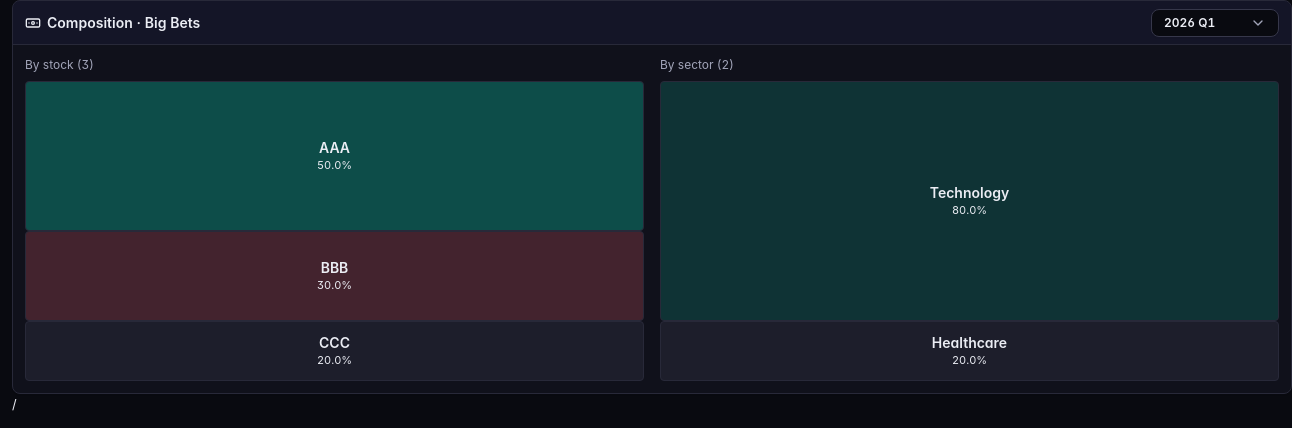
Test: CompositionPanel sector filter › clears on Escape and from the header button
Click the button "Technology 80.0%" at (970, 201), box [660,81,1279,321]
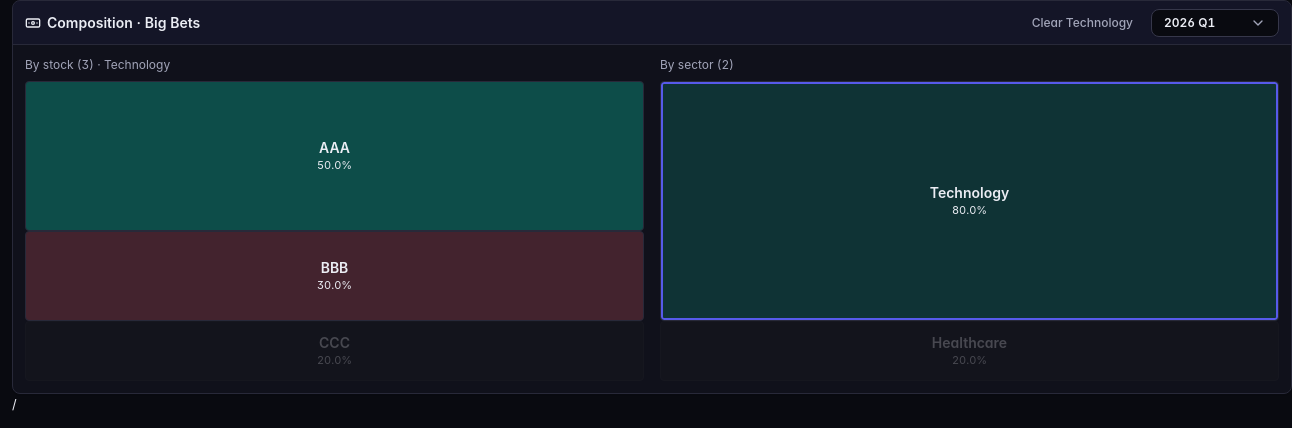
Press Escape
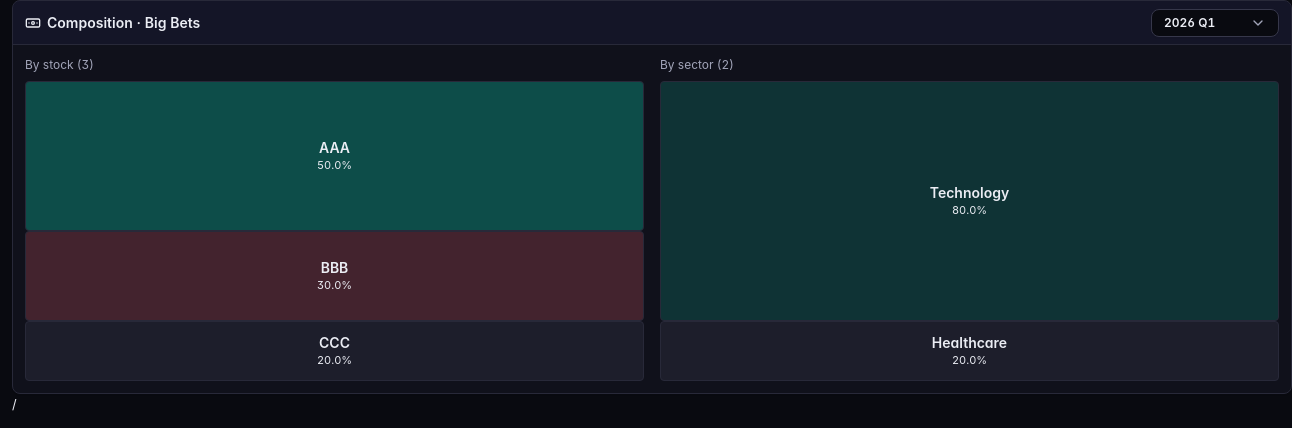
Click the button "Healthcare 20.0%" at (970, 351), box [660,321,1279,381]
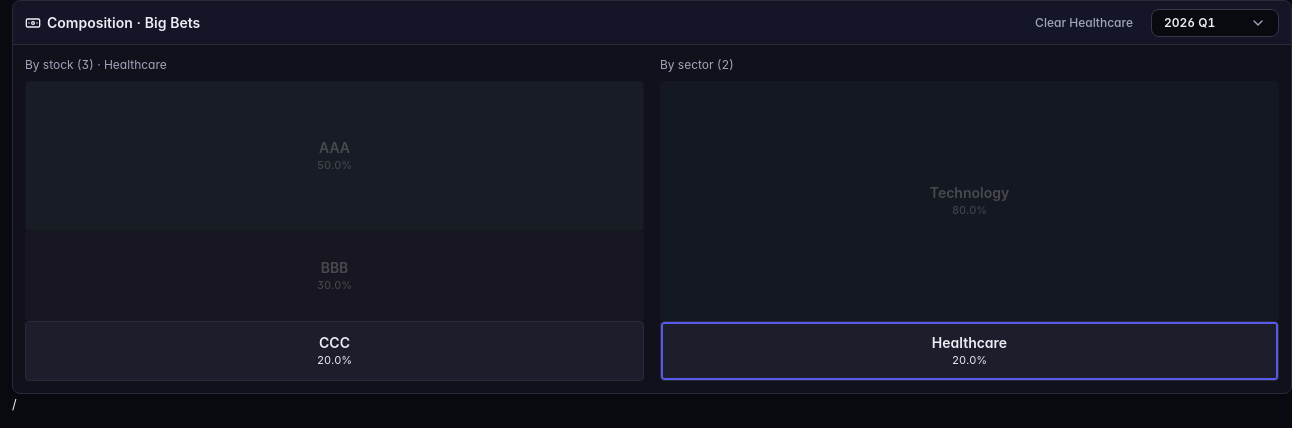
Click the button "Clear Healthcare" at (1084, 22), box [1025,8,1143,36]
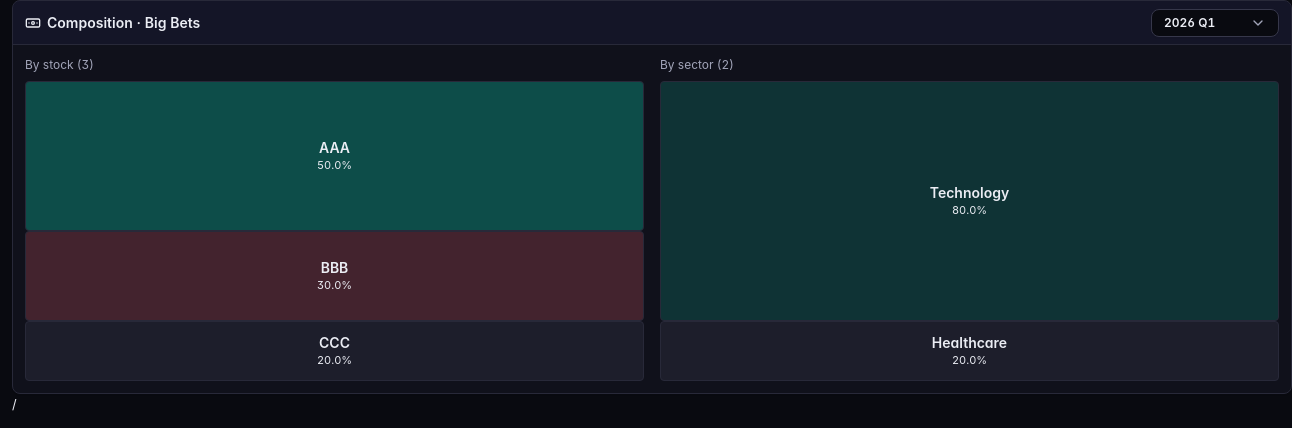
Result: the button "Clear" is gone
